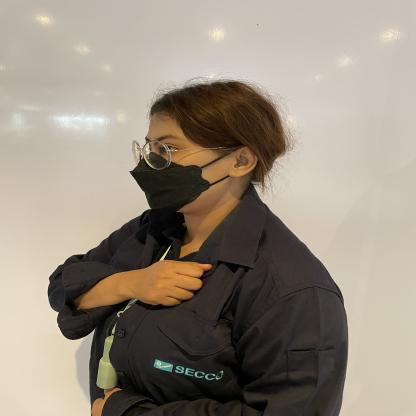Sadness: (100, 239, 226, 317)
